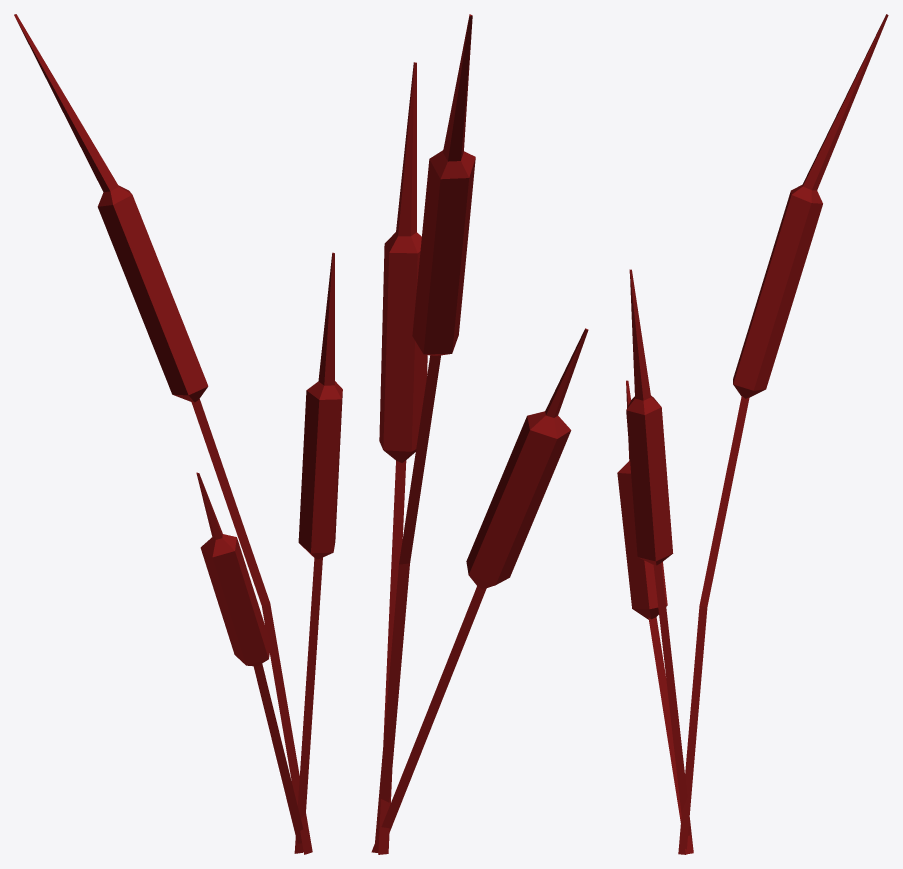
The model's file is Model_Horde_Plants6.fbx.
3 views of the same model, side by side, from view 1: azimuth 30°, elevation 25°; view 2: azimuth 150°, elevation 25°; view 3: azimuth 270°, elevation 25° (orthographic). The views are drawn at different scales.
Parts seen in each view (by area): view 1: cao6; view 2: cao6; view 3: cao6.
Boxes of the visible parts, x1=… form: cao6: x1=14, y1=14, x2=342, y2=854; cao6: x1=371, y1=14, x2=588, y2=854; cao6: x1=617, y1=14, x2=888, y2=854.
Size of the model in its own units: 34.69 by 133 by 43.27.
